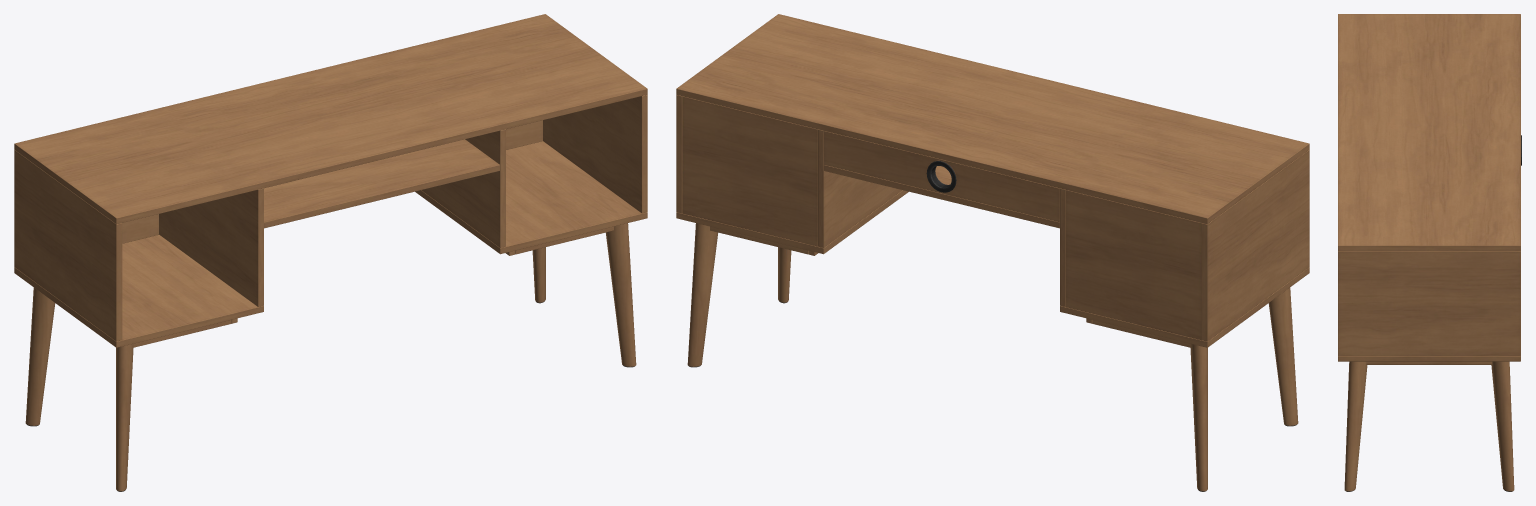
File: study-desk.glb
The picture shows the model from 3 angles, left to right: view 1: azimuth 30°, elevation 25°; view 2: azimuth 150°, elevation 25°; view 3: azimuth 270°, elevation 25°; orthographic projection. The views are drawn at different scales.
Visible parts, largest first — view 1: Desk; view 2: Desk; view 3: Desk.
Part boxes in pixels (<box>): Desk: <box>14,14,647,491</box>; Desk: <box>676,14,1309,491</box>; Desk: <box>1338,14,1521,491</box>.
Size of the model in its own units: 1.84 by 0.9245 by 0.6181.
Materials: 2 (1 with a texture image).
